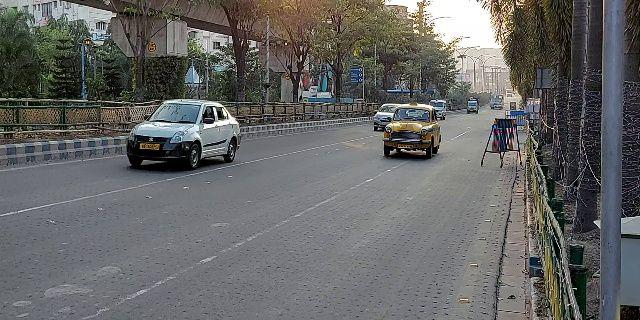Car: (124, 96, 244, 172), (382, 102, 443, 164), (370, 101, 394, 135)
